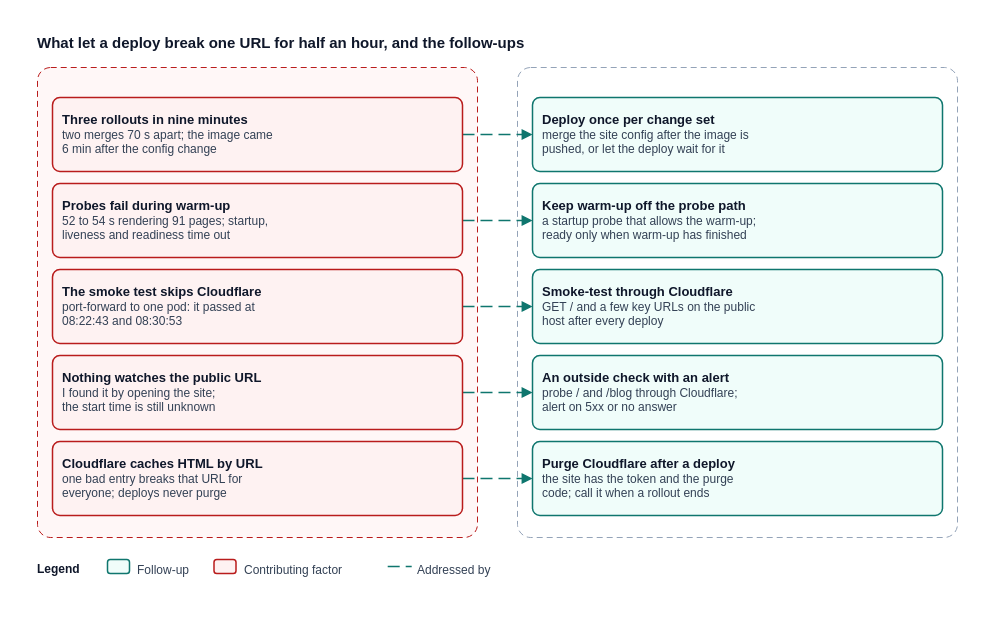
This 994x634 diagram has some shape labels left out. The box of each missing label's shape, as (x1, y1, x2, y2) in pixels:
Follow-up (all open): (516, 66, 958, 538)
What let it happen: (36, 66, 478, 538)
